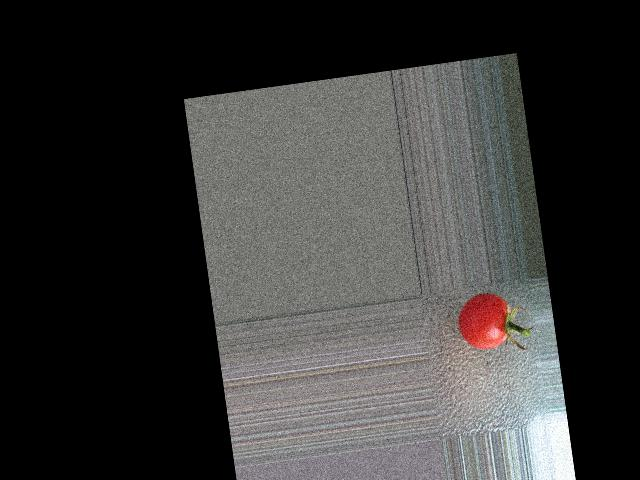tomato: (454, 291, 513, 353)
